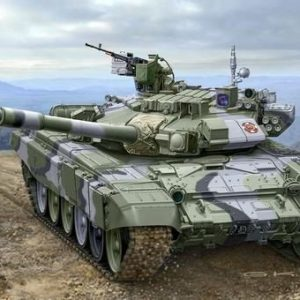Battle Tank: (1, 50, 300, 282)
